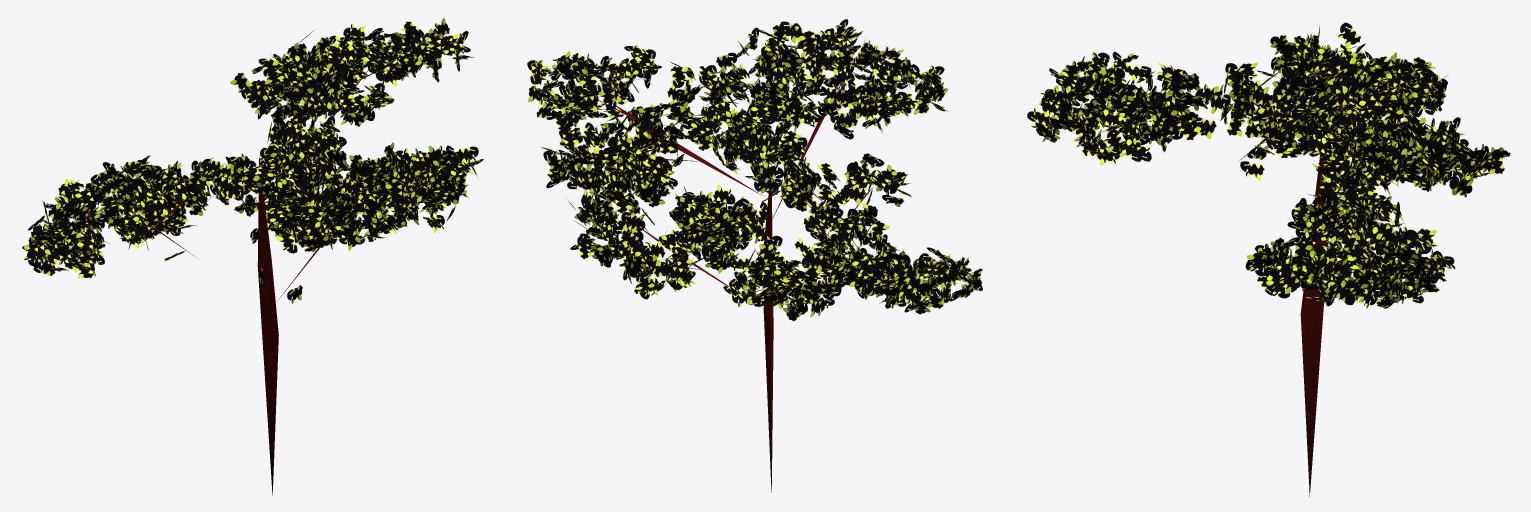
Rendered from acacia_flat_v03_LOD2.glb.
The picture shows the model from 3 angles, left to right: view 1: azimuth 30°, elevation 25°; view 2: azimuth 150°, elevation 25°; view 3: azimuth 270°, elevation 25°; orthographic projection. The views are drawn at different scales.
Parts seen in each view (by area): view 1: acacia_flat_v03_LOD2; view 2: acacia_flat_v03_LOD2; view 3: acacia_flat_v03_LOD2.
Part boxes in pixels (left/top/right/bottom): acacia_flat_v03_LOD2: left=22, top=18, right=483, bottom=495; acacia_flat_v03_LOD2: left=527, top=19, right=982, bottom=492; acacia_flat_v03_LOD2: left=1027, top=22, right=1510, bottom=496.
Size of the model in its own units: 12.57 by 11.53 by 10.53.
2 materials, 2 textured.
